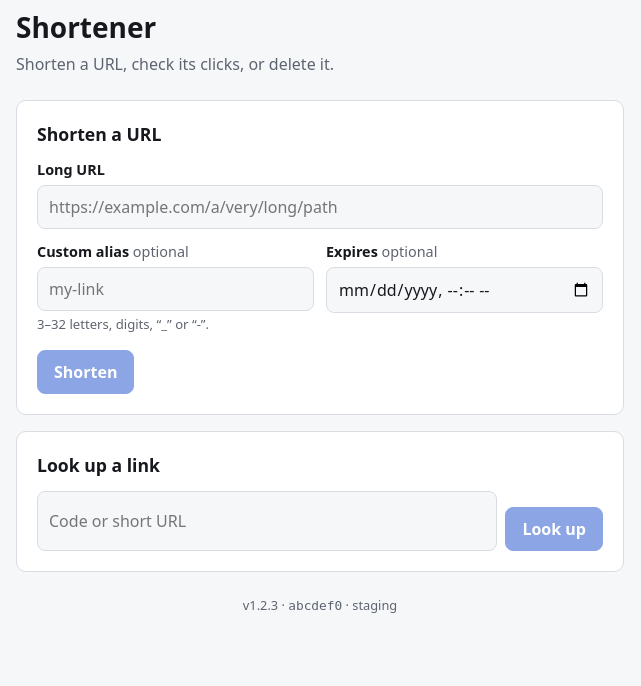
creating a link › marks the alias field when the alias is taken
Type "https://example.com" into the field labelled "Long URL" at (320, 207), box [37,185,603,229]
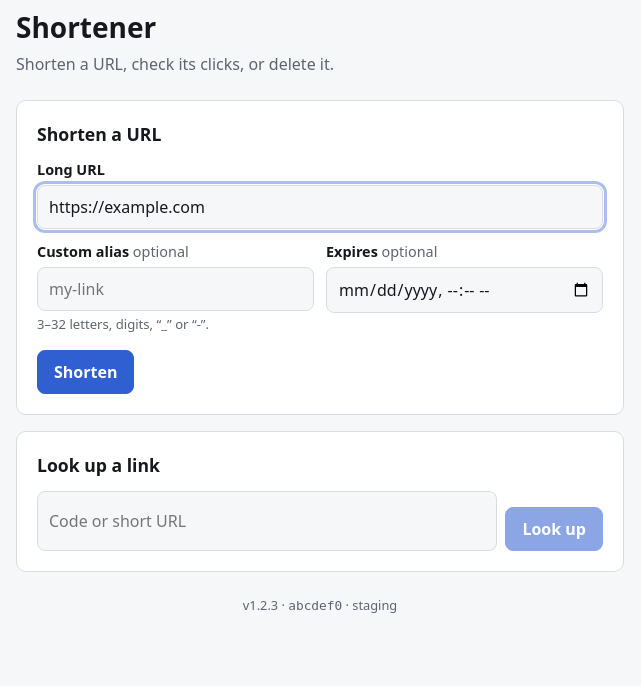
Type "taken" into the field labelled "Custom alias optional" at (176, 289), box [37,267,314,311]
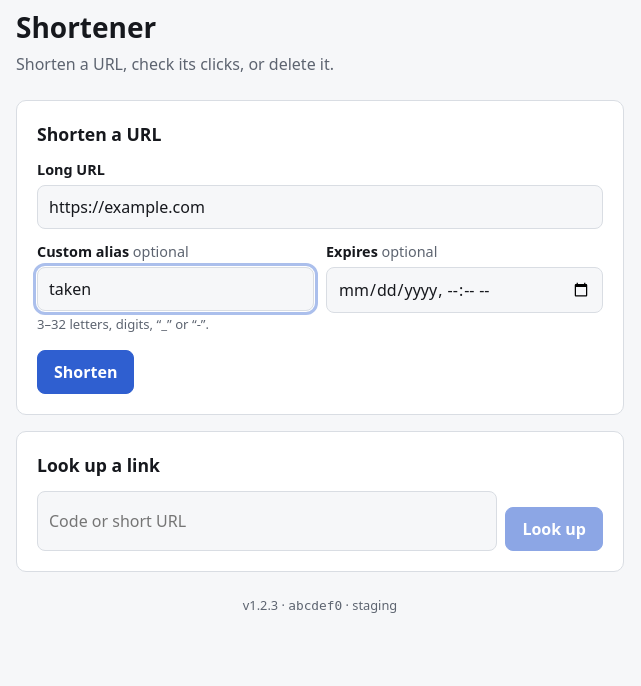
Click the button "Shorten" at (86, 372), box [37,350,134,394]
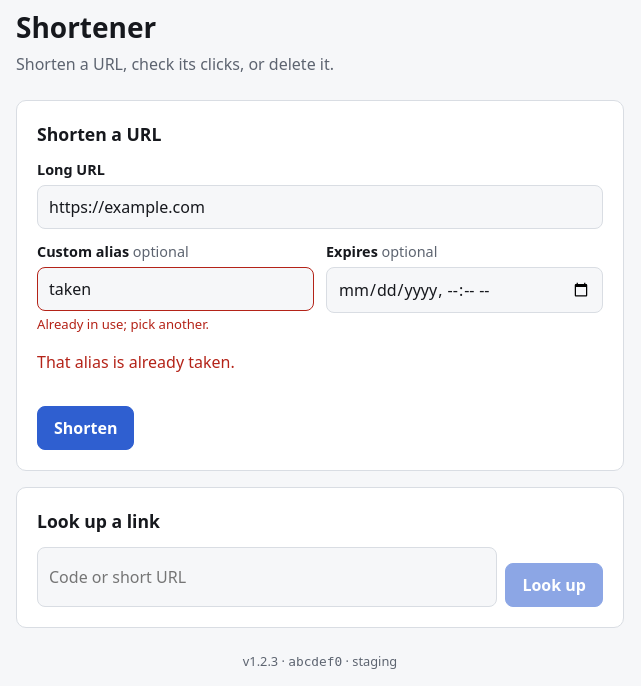
Expected: the message shows "already taken", [37,351,235,373]
Expected: the text "Already in use; pick another." is shown, [37,315,209,333]
